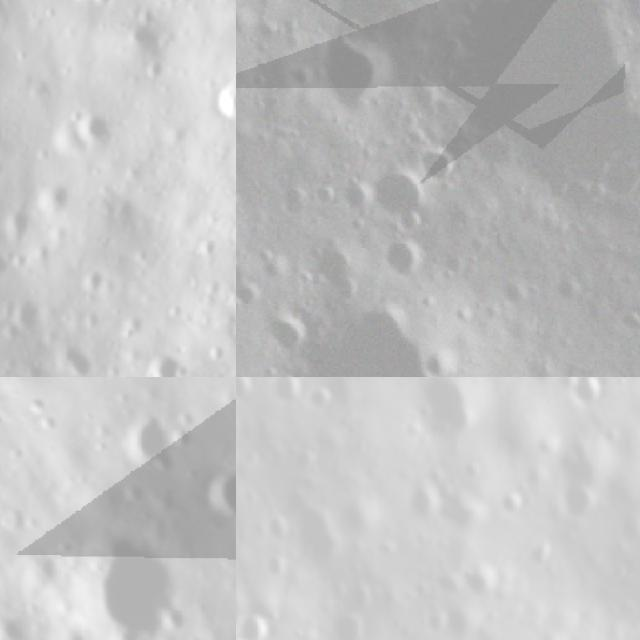crater: (440, 0, 640, 197), (46, 508, 211, 640), (280, 300, 457, 377), (98, 399, 199, 505), (314, 28, 406, 120), (417, 377, 480, 451), (362, 164, 432, 228), (305, 237, 362, 308), (65, 96, 125, 158), (189, 459, 236, 538), (293, 504, 350, 560), (199, 64, 236, 139), (258, 302, 311, 353), (412, 140, 462, 190), (134, 339, 197, 377), (377, 237, 430, 278), (556, 486, 602, 524), (272, 178, 311, 220), (498, 275, 536, 318), (550, 272, 593, 310), (0, 601, 40, 640), (406, 487, 446, 523), (464, 562, 500, 600), (576, 377, 610, 411), (311, 176, 338, 217), (497, 486, 533, 514), (341, 580, 372, 610), (238, 612, 271, 640), (306, 380, 334, 411), (293, 445, 325, 472), (328, 619, 369, 640), (267, 377, 304, 399), (264, 551, 290, 580), (527, 542, 556, 568), (266, 514, 288, 537), (557, 377, 577, 395), (236, 377, 252, 399), (528, 377, 552, 388)
